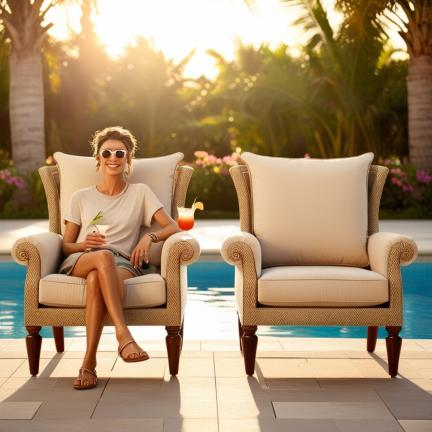empty chair: (221, 153, 418, 376)
guest on chair: (12, 127, 200, 390)
